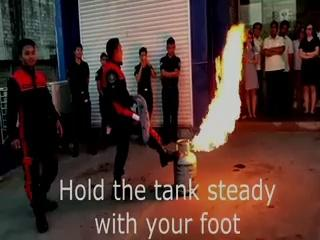Fire: (184, 29, 254, 149)
